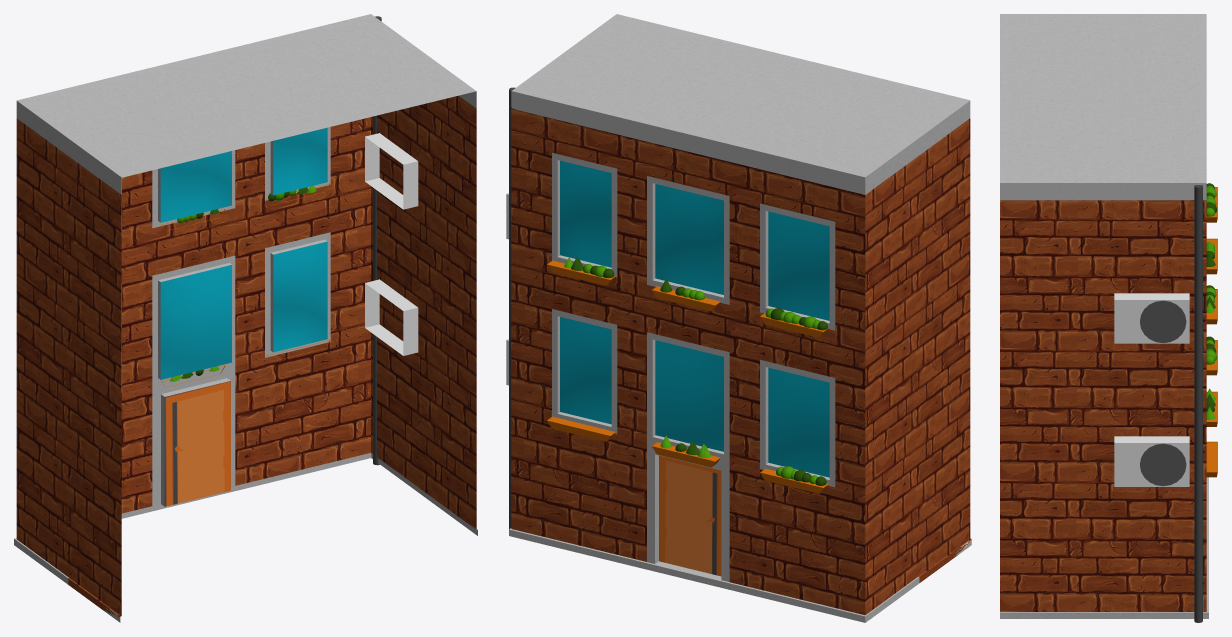
Rendered from buidling_aparment_B.fbx.
3 renders of one model, left to right at view 1: azimuth 30°, elevation 25°; view 2: azimuth 150°, elevation 25°; view 3: azimuth 270°, elevation 25°, orthographic. The views are drawn at different scales.
Visible parts, largest first — view 1: building_apartment_B; view 2: building_apartment_B; view 3: building_apartment_B.
Part boxes in pixels (<box>): building_apartment_B: <box>14,14,477,622</box>; building_apartment_B: <box>506,14,971,622</box>; building_apartment_B: <box>1000,14,1217,622</box>.
Bounding box in the file's own units: 522 × 602 × 272.
1 material, 1 textured.
